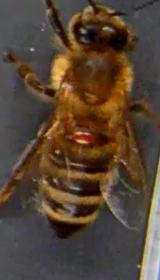varroa_mite: (63, 126, 99, 142)
